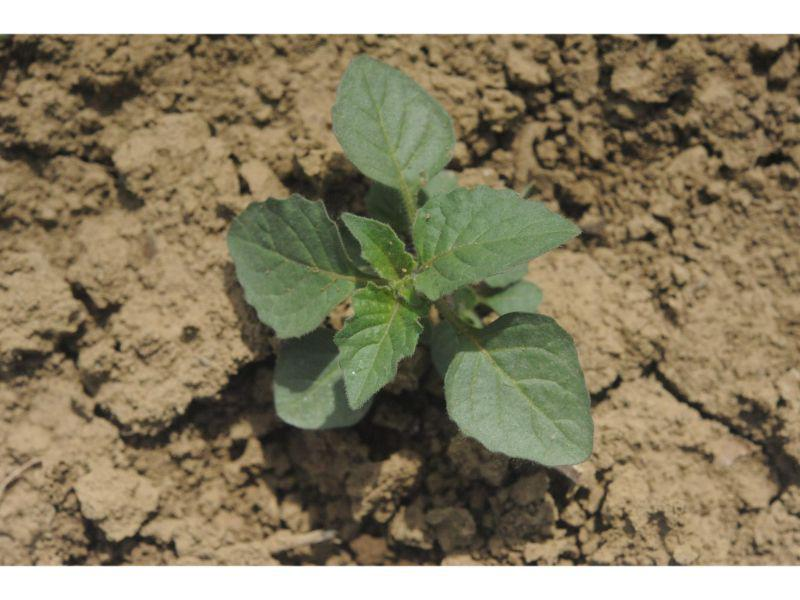nightshade: (228, 53, 594, 465)
